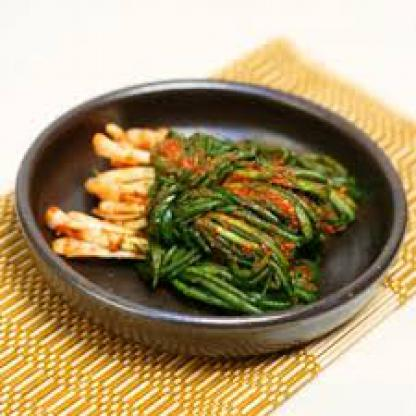green onion Kimchi: (67, 132, 357, 328)
